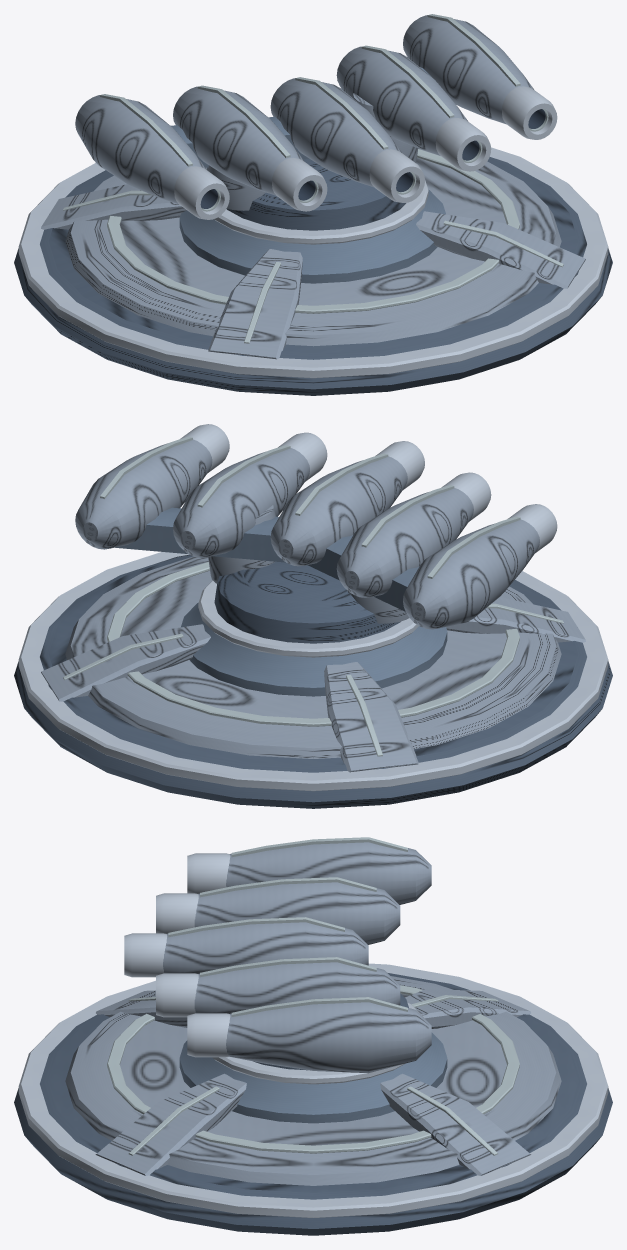
The model's file is GGA2401_source.obj.
The picture shows the model from 3 angles, top to bottom: view 1: azimuth 30°, elevation 25°; view 2: azimuth 150°, elevation 25°; view 3: azimuth 270°, elevation 25°; orthographic projection.
Parts seen in each view (by area): view 1: GGA2401, Turret_Barrel, Turret; view 2: GGA2401, Turret_Barrel, Turret; view 3: GGA2401, Turret_Barrel.
Boxes of the visible parts, x1,y1,x2,y2 form: GGA2401: [14, 147, 612, 395]; Turret_Barrel: [75, 14, 557, 219]; Turret: [206, 93, 418, 230]; GGA2401: [14, 552, 612, 808]; Turret_Barrel: [75, 424, 557, 629]; Turret: [208, 505, 409, 643]; GGA2401: [14, 963, 612, 1235]; Turret_Barrel: [124, 837, 431, 1073].
Bounding box in the file's own units: 38 × 14.1 × 38.
1 material, 1 textured.
